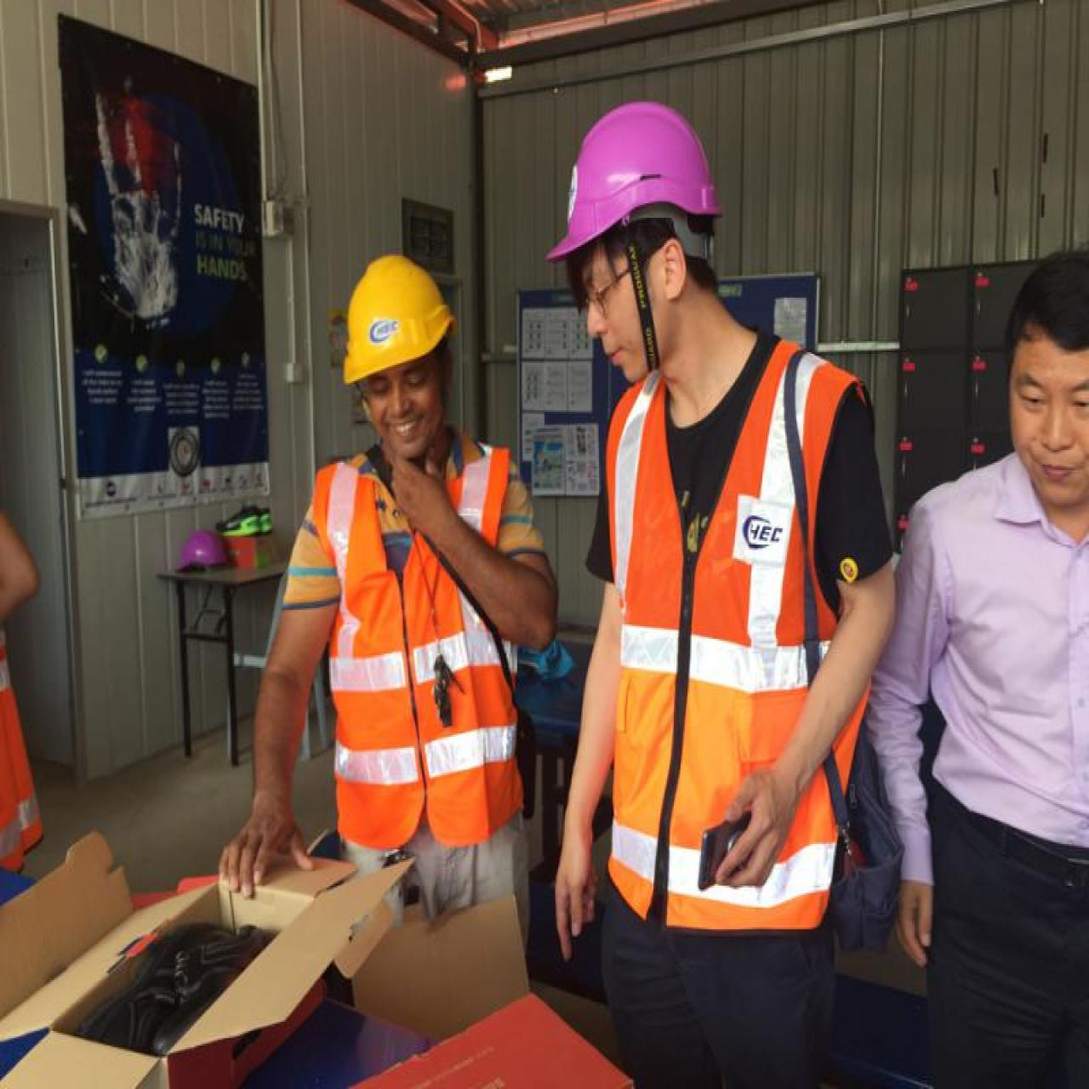NO_Safety_Vest: (933, 479, 1089, 852)
Person: (520, 63, 918, 1078), (213, 233, 563, 914), (872, 244, 1088, 1089)
Safety_Vest: (596, 377, 854, 934), (302, 453, 525, 849)
